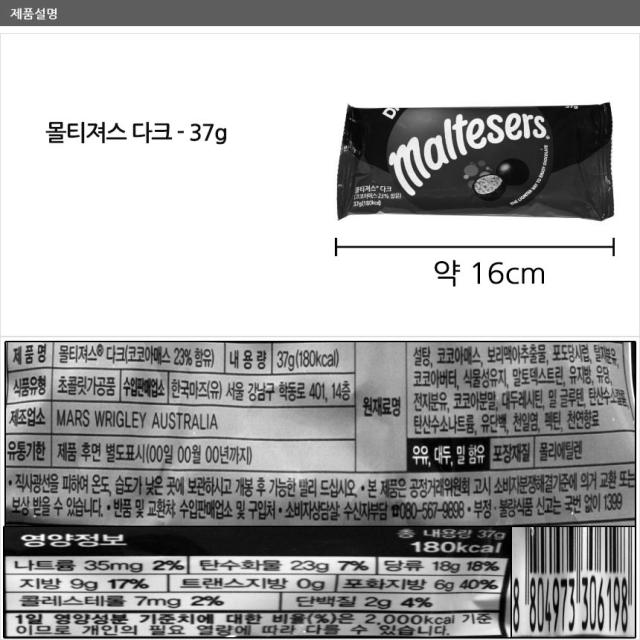Nutrition Label: (0, 520, 514, 640)
